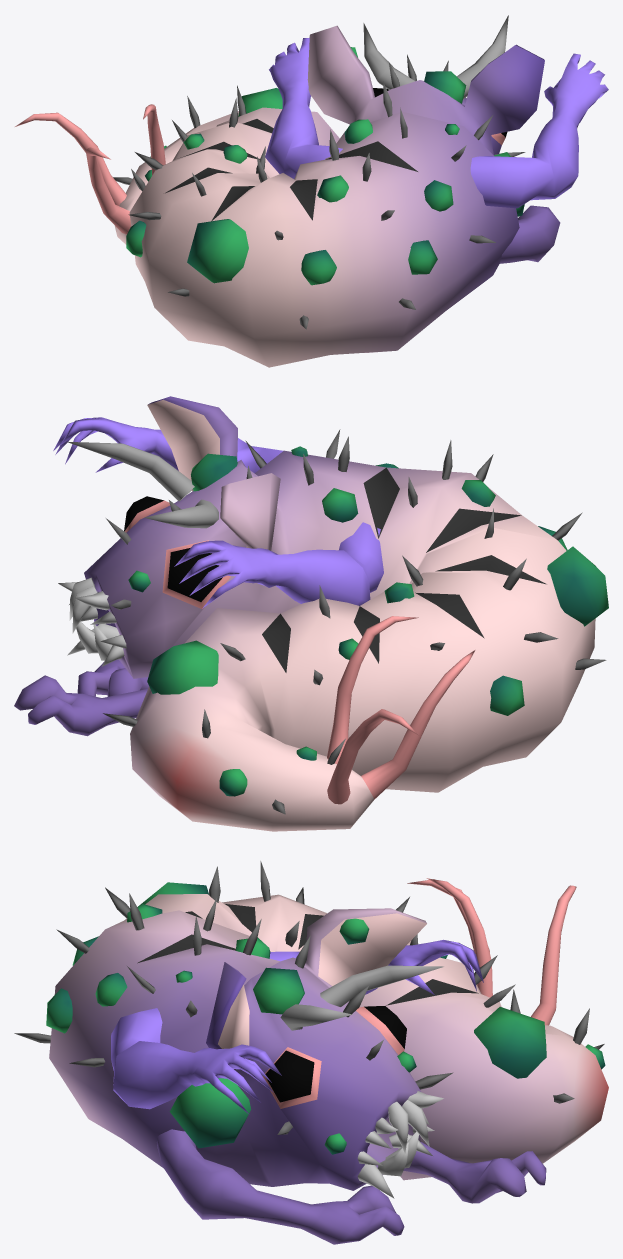
Rendered from queen.fbx.
3 renders of one model, top to bottom at view 1: azimuth 30°, elevation 25°; view 2: azimuth 150°, elevation 25°; view 3: azimuth 270°, elevation 25°, orthographic. The views are drawn at different scales.
Parts seen in each view (by area): view 1: Queen, QueenExtraLimbs, QueenBoils, QueenSpikySkin, QueenExtraTails, QueenHorns; view 2: Queen, QueenExtraLimbs, QueenBoils, QueenSpikySkin, QueenExtraTails, QueenHorns, QueenBigTeeth; view 3: Queen, QueenBoils, QueenExtraLimbs, QueenSpikySkin, QueenBigTeeth, QueenExtraTails, QueenHorns.
Boxes of the visible parts, box(x1,y1,x2,y2) form: Queen: box(86, 25, 560, 367); QueenExtraLimbs: box(265, 37, 608, 208); QueenBoils: box(126, 47, 524, 285); QueenSpikySkin: box(113, 54, 525, 329); QueenExtraTails: box(15, 104, 165, 205); QueenHorns: box(363, 15, 508, 99); Queen: box(14, 396, 595, 831); QueenExtraLimbs: box(53, 417, 383, 608); QueenBoils: box(128, 446, 608, 796); QueenSpikySkin: box(103, 429, 606, 814); QueenExtraTails: box(327, 616, 418, 804); QueenHorns: box(66, 441, 218, 528); QueenBigTeeth: box(58, 577, 126, 666); Queen: box(49, 879, 608, 1244); QueenBoils: box(46, 882, 605, 1154); QueenExtraLimbs: box(111, 939, 483, 1113); QueenSpikySkin: box(14, 861, 604, 1134); QueenBigTeeth: box(357, 1091, 443, 1198); QueenExtraTails: box(426, 878, 576, 1025); QueenHorns: box(280, 965, 443, 1030).
Bounding box in the file's own units: 1.55 × 0.8018 × 1.51.
